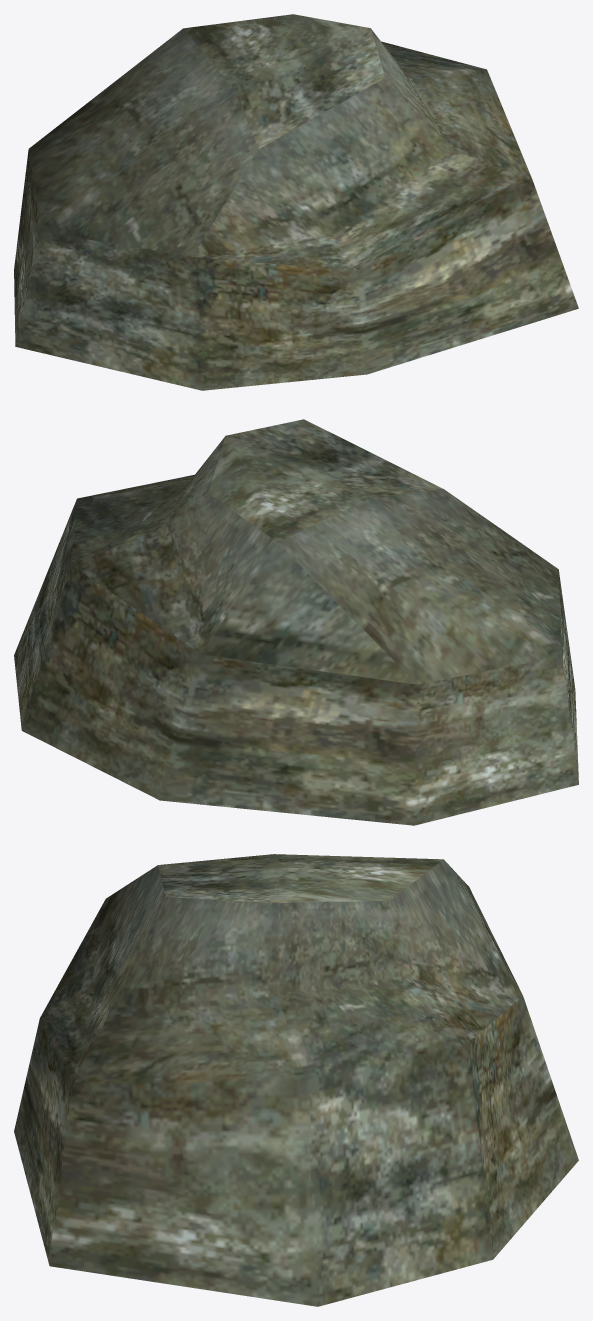
The model's file is OZ_05_nk_rock01B.glb.
The picture shows the model from 3 angles, top to bottom: view 1: azimuth 30°, elevation 25°; view 2: azimuth 150°, elevation 25°; view 3: azimuth 270°, elevation 25°; orthographic projection. The views are drawn at different scales.
Visible parts, largest first — view 1: OM_05_nk_rock01B; view 2: OM_05_nk_rock01B; view 3: OM_05_nk_rock01B.
Boxes of the visible parts, box(x1,y1,x2,y2) form: OM_05_nk_rock01B: box(14, 14, 578, 390); OM_05_nk_rock01B: box(14, 419, 578, 825); OM_05_nk_rock01B: box(14, 854, 578, 1306).
Bounding box in the file's own units: 2.82 × 1.23 × 2.14.
1 material, 1 textured.
